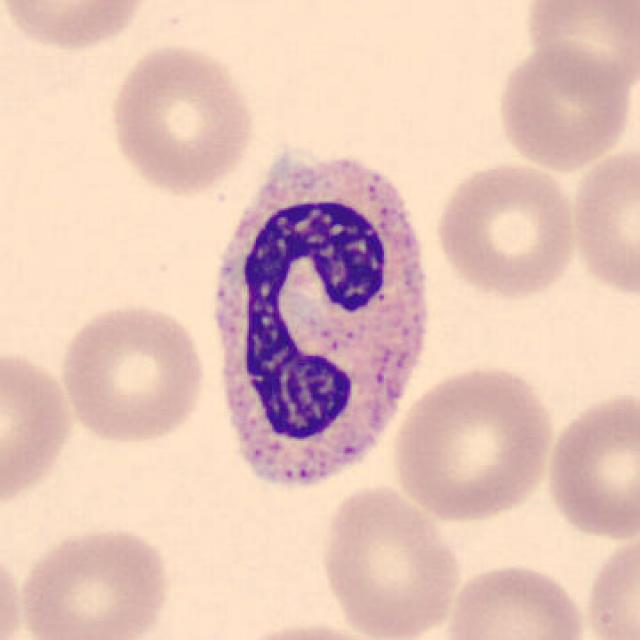Neutrophil: (196, 138, 444, 512)
RBC: (388, 362, 558, 526), (103, 41, 260, 198), (55, 298, 212, 448), (315, 482, 464, 638), (431, 158, 582, 302), (14, 520, 176, 640), (492, 39, 634, 173), (540, 384, 640, 545), (0, 342, 76, 515), (519, 0, 640, 100), (441, 559, 590, 640), (566, 141, 638, 302), (0, 0, 156, 53), (580, 529, 638, 640), (224, 619, 395, 640), (0, 537, 28, 640)
